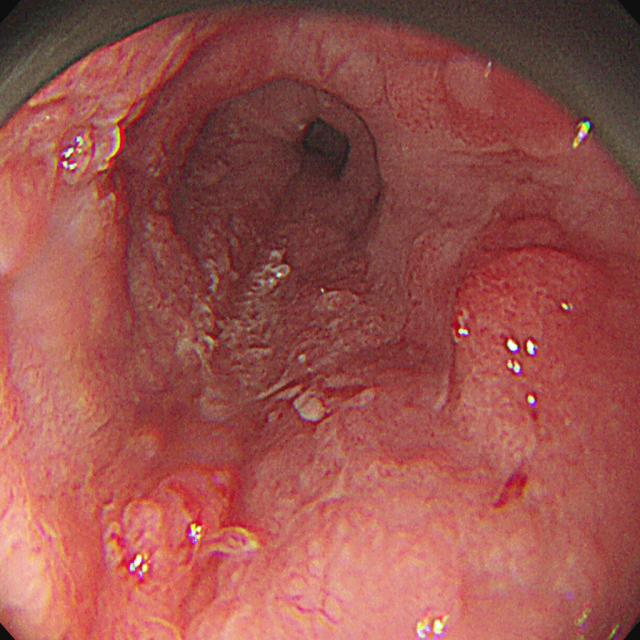A: (268, 414, 553, 617), (131, 208, 372, 432), (409, 213, 637, 419), (8, 23, 201, 201), (98, 433, 258, 631)
C: (485, 463, 541, 516)
E: (287, 115, 355, 187)
U: (506, 336, 538, 379), (413, 608, 450, 640), (124, 553, 157, 584), (570, 120, 593, 154), (65, 137, 86, 173), (186, 521, 205, 550)
